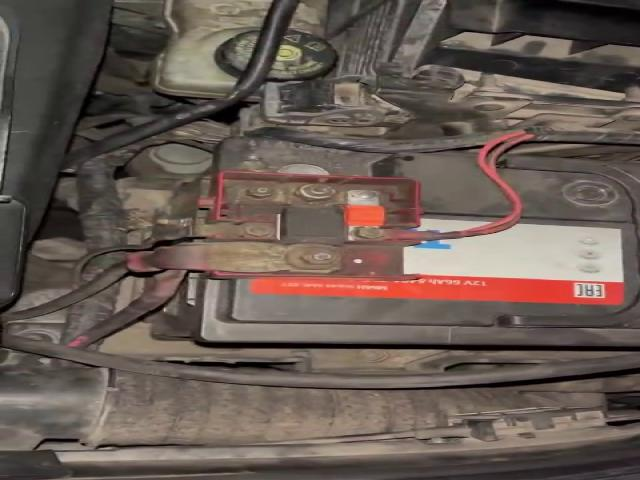accumulator: (125, 136, 636, 349)
